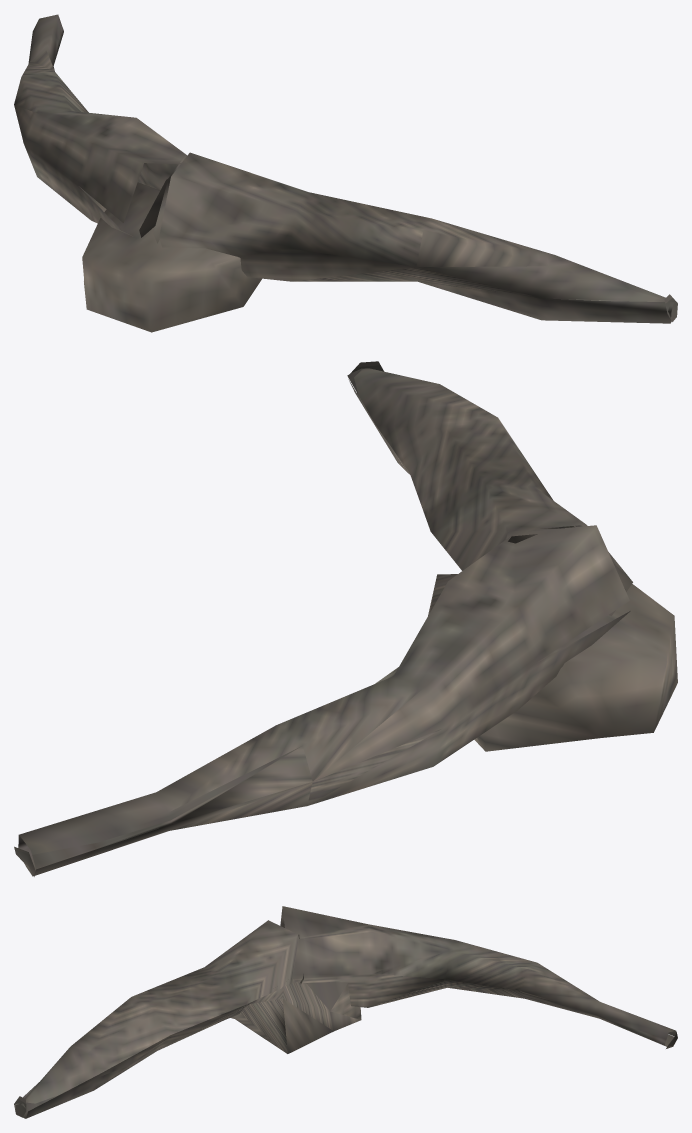
Rendered from roots_surface_03.glb.
3 views of the same model, one above another, from view 1: azimuth 30°, elevation 25°; view 2: azimuth 150°, elevation 25°; view 3: azimuth 270°, elevation 25° (orthographic). The views are drawn at different scales.
Parts seen in each view (by area): view 1: roots_surface_03; view 2: roots_surface_03; view 3: roots_surface_03.
Boxes of the visible parts, x1=… form: roots_surface_03: x1=14, y1=14, x2=677, y2=332; roots_surface_03: x1=14, y1=361, x2=677, y2=876; roots_surface_03: x1=14, y1=906, x2=677, y2=1118.
Bounding box in the file's own units: 0.555 × 0.2022 × 1.03.
1 material, 1 textured.
